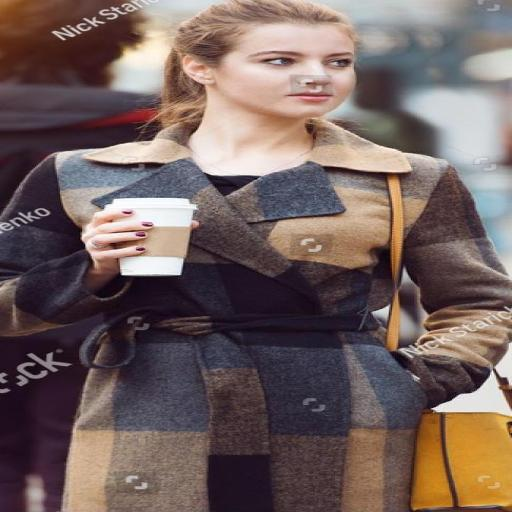person: (0, 0, 511, 511), (0, 0, 158, 210)
